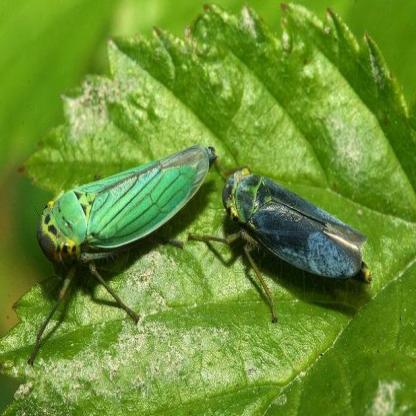Green-Leafhopper: (29, 145, 216, 357), (192, 152, 371, 338)
